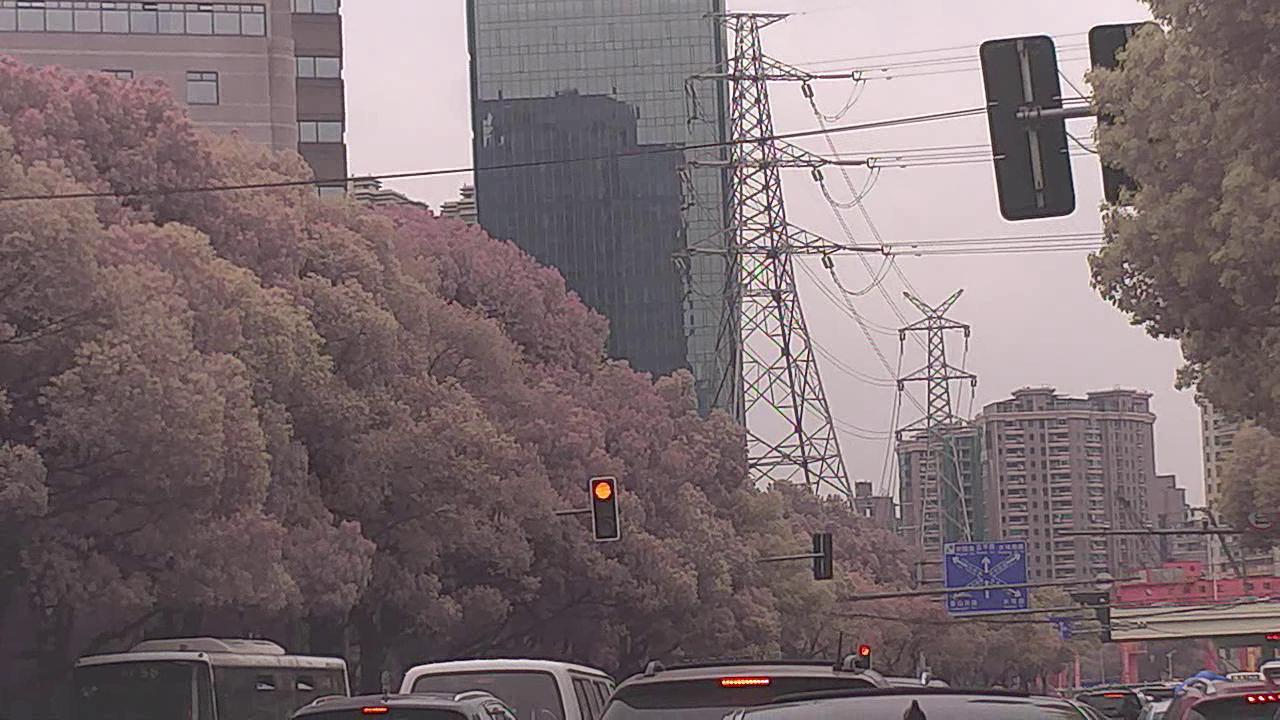traffic_light: (589, 477, 620, 541)
